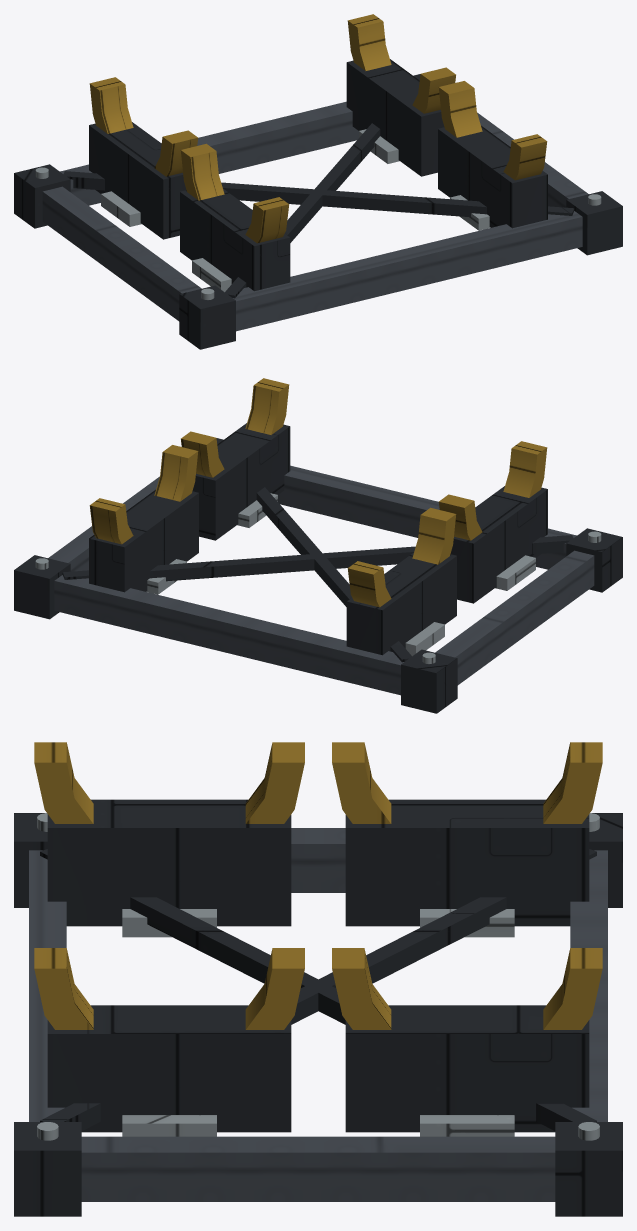
The model's file is cargo-twin-tank-cradle_lod1.glb.
The picture shows the model from 3 angles, top to bottom: view 1: azimuth 30°, elevation 25°; view 2: azimuth 150°, elevation 25°; view 3: azimuth 270°, elevation 25°; orthographic projection. The views are drawn at different scales.
Visible parts, largest first — view 1: LOD1_Armor, LOD1_Mechanical, LOD1_Livery, LOD1_BrushedMetal; view 2: LOD1_Armor, LOD1_Mechanical, LOD1_Livery, LOD1_BrushedMetal; view 3: LOD1_Armor, LOD1_Mechanical, LOD1_Livery, LOD1_BrushedMetal.
Part boxes in pixels (x1,y1,x2,y2): LOD1_Armor: [14, 59, 622, 349]; LOD1_Mechanical: [42, 101, 588, 331]; LOD1_Livery: [89, 14, 547, 243]; LOD1_BrushedMetal: [35, 129, 601, 299]; LOD1_Armor: [14, 423, 622, 713]; LOD1_Mechanical: [48, 465, 594, 695]; LOD1_Livery: [89, 378, 547, 607]; LOD1_BrushedMetal: [35, 493, 601, 663]; LOD1_Armor: [14, 799, 622, 1216]; LOD1_Mechanical: [29, 828, 607, 1201]; LOD1_Livery: [34, 742, 602, 1029]; LOD1_BrushedMetal: [37, 813, 599, 1140].
Size of the model in its own units: 2.95 by 0.785 by 2.25.
4 materials, 4 textured.
